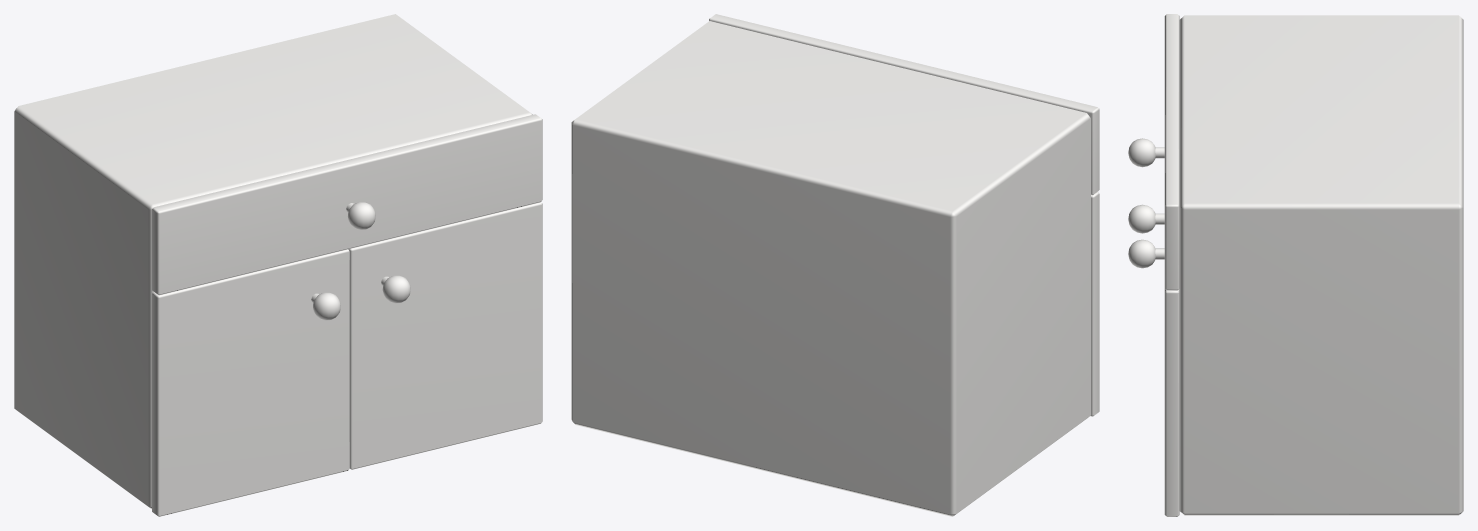
Rendered from Cabinet_5.glb.
3 views of the same model, side by side, from view 1: azimuth 30°, elevation 25°; view 2: azimuth 150°, elevation 25°; view 3: azimuth 270°, elevation 25° (orthographic). The views are drawn at different scales.
Visible parts, largest first — view 1: Cabinet_5; view 2: Cabinet_5; view 3: Cabinet_5.
Part boxes in pixels (x1,y1,x2,y2): Cabinet_5: (14,14,542,516); Cabinet_5: (571,14,1099,516); Cabinet_5: (1128,14,1463,516).
Size of the model in its own units: 1.24 by 0.9376 by 0.9121.
1 material, 1 textured.
